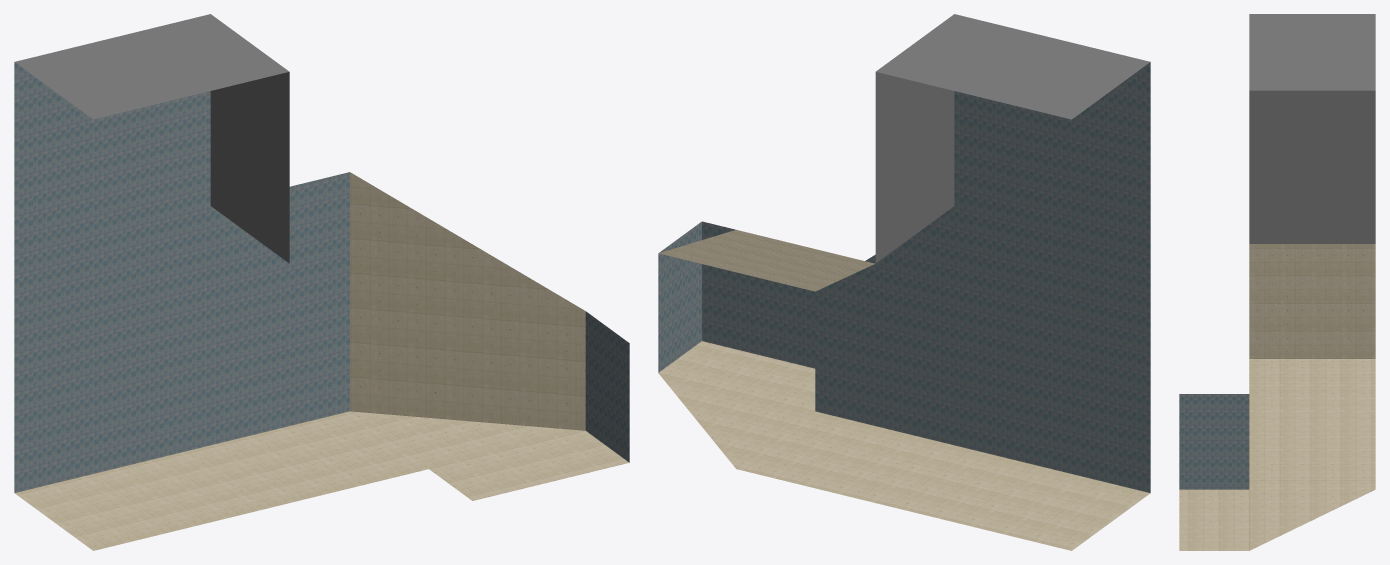
The model's file is StrangeTiles.gltf.
3 renders of one model, left to right at view 1: azimuth 30°, elevation 25°; view 2: azimuth 150°, elevation 25°; view 3: azimuth 270°, elevation 25°, orthographic. The views are drawn at different scales.
Parts seen in each view (by area): view 1: PolishedConcreteOrTile (×2), Room; view 2: PolishedConcreteOrTile (×2), Room; view 3: PolishedConcreteOrTile (×2), Room.
Boxes of the visible parts, x1,y1,x2,y2 form: PolishedConcreteOrTile (×2): [14, 62, 629, 550]; Room: [15, 14, 289, 263]; PolishedConcreteOrTile (×2): [658, 62, 1150, 550]; Room: [875, 14, 1150, 263]; PolishedConcreteOrTile (×2): [1179, 244, 1375, 550]; Room: [1249, 14, 1375, 243].
Bounding box in the file's own units: 22.74 × 19.03 × 9.8.
3 materials, 2 textured.
